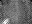person: (3, 16, 11, 24)
